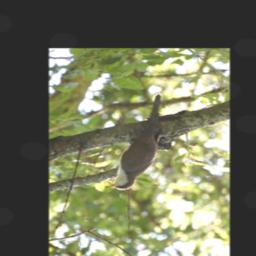Cuckoo: (104, 92, 165, 191)
